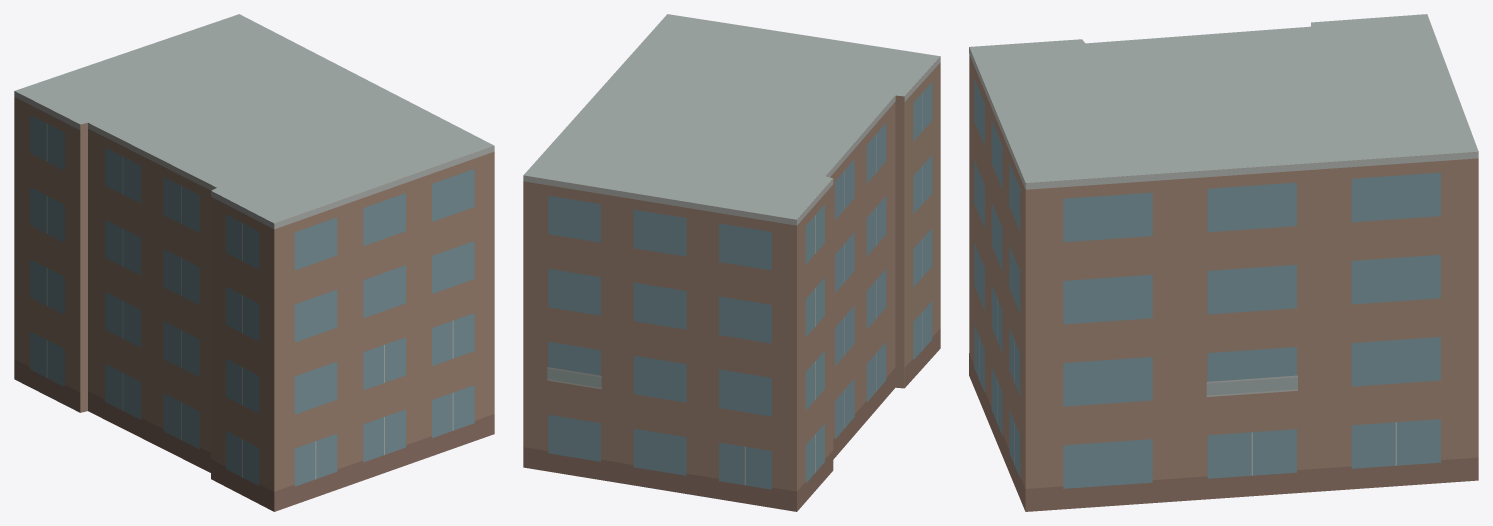
File: survey-upis-33012031.glb
3 renders of one model, left to right at view 1: azimuth 30°, elevation 25°; view 2: azimuth 150°, elevation 25°; view 3: azimuth 270°, elevation 25°, orthographic. The views are drawn at different scales.
Parts seen in each view (by area): view 1: survey-upis-33012031.tmp; view 2: survey-upis-33012031.tmp; view 3: survey-upis-33012031.tmp.
Boxes of the visible parts, x1,y1,x2,y2 form: survey-upis-33012031.tmp: [14, 14, 494, 511]; survey-upis-33012031.tmp: [523, 14, 940, 511]; survey-upis-33012031.tmp: [969, 14, 1478, 511].
Bounding box in the file's own units: 13.31 × 12.05 × 16.94.
